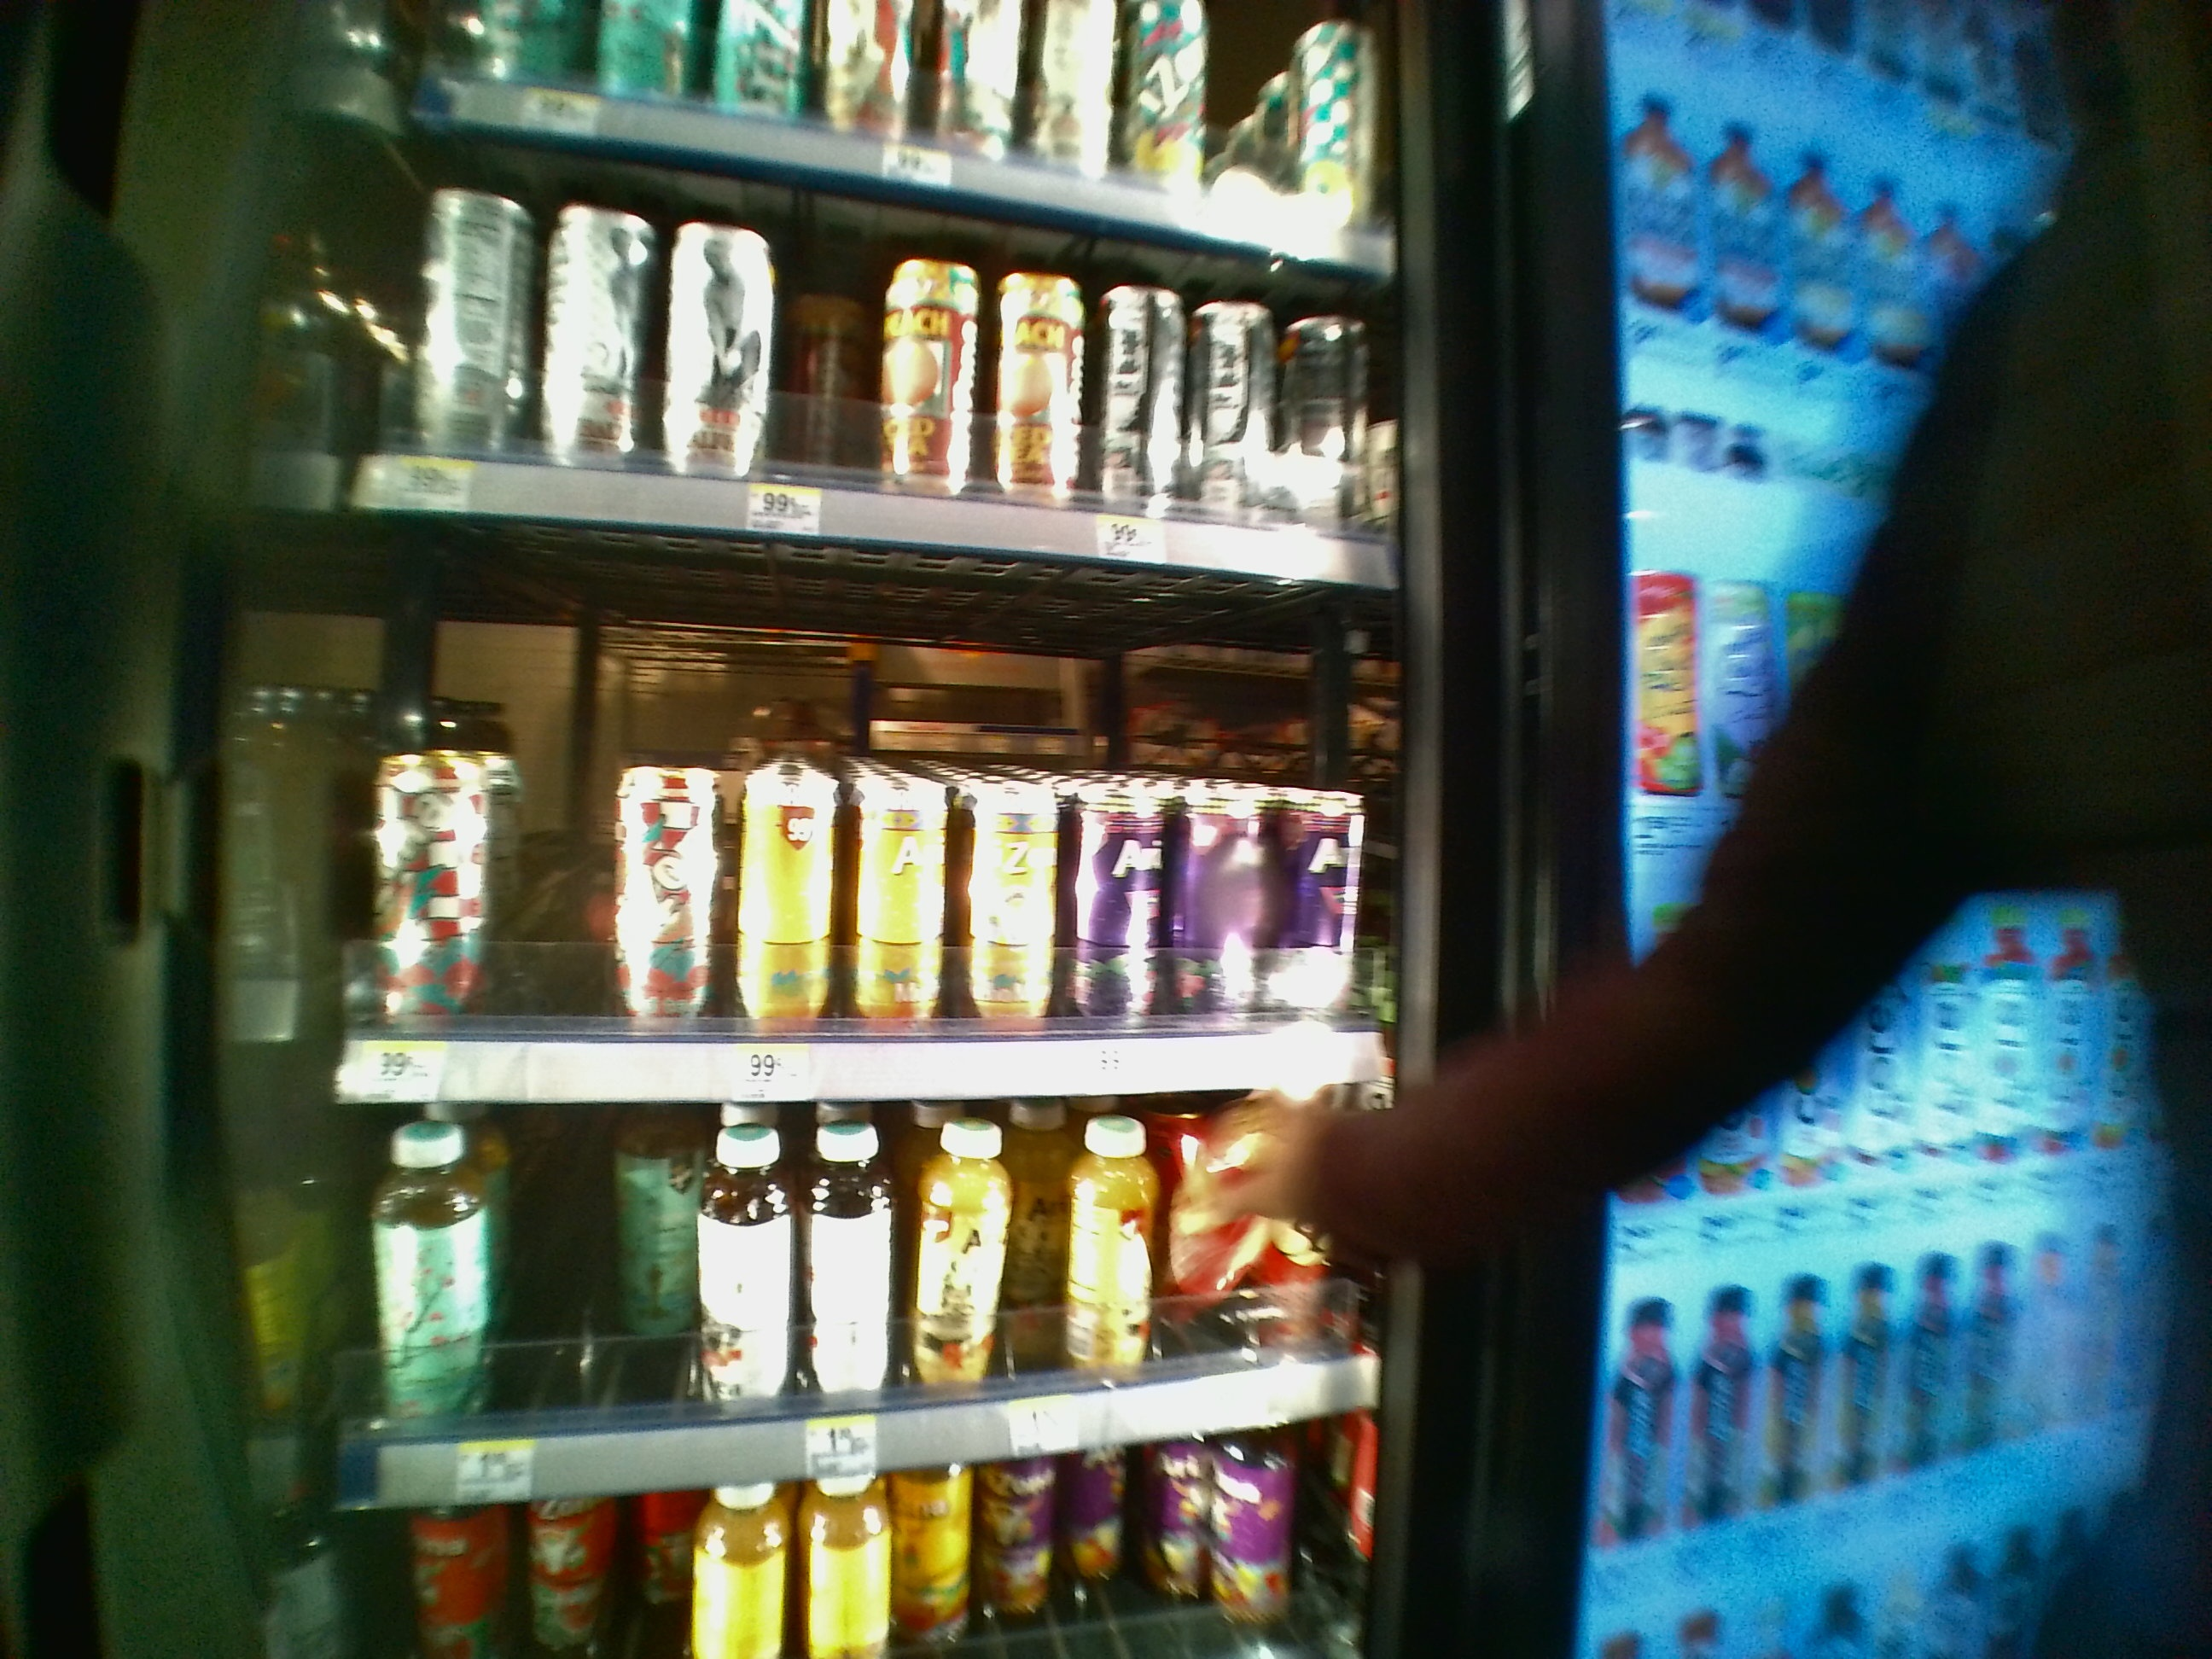shelf: (336, 528, 1393, 1094)
